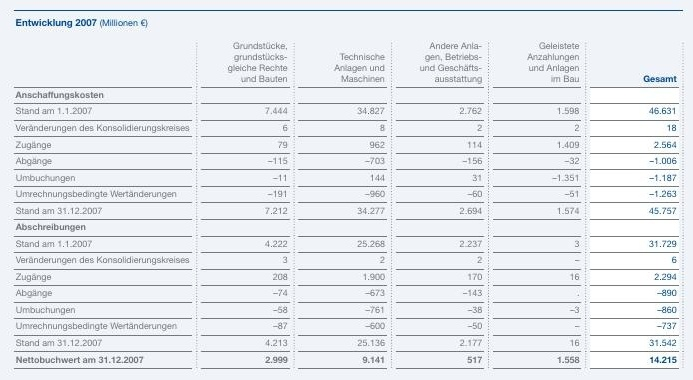table: (0, 0, 693, 380)
